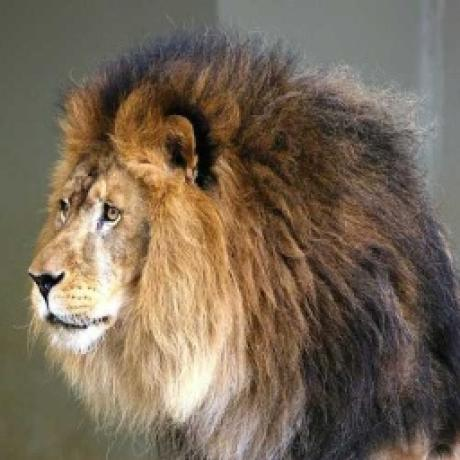Lion: (21, 30, 458, 460)
